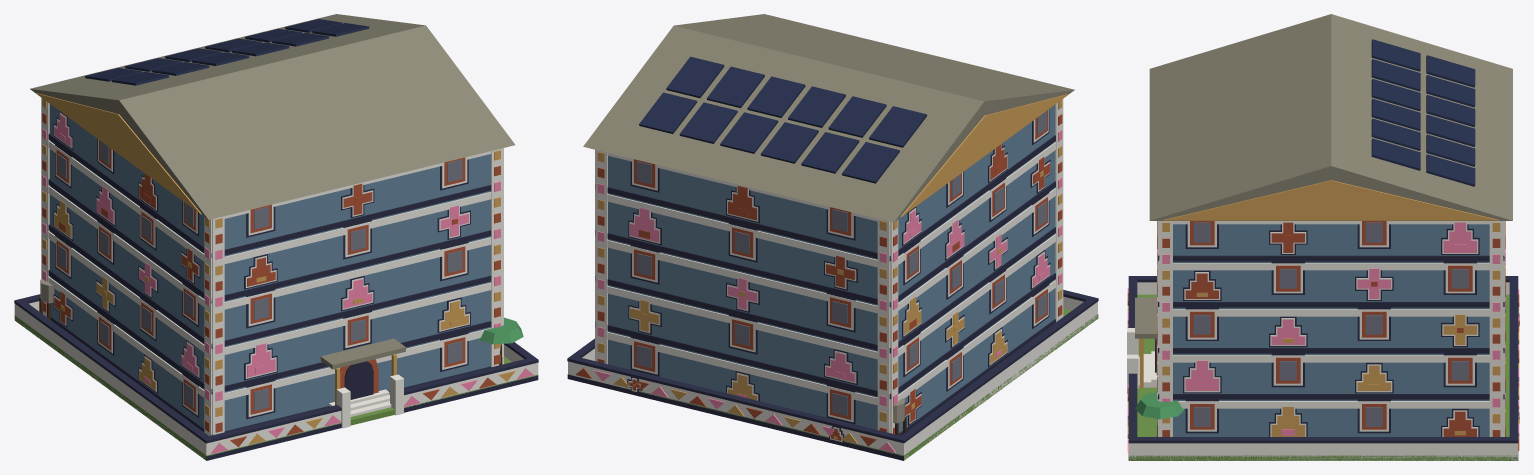
File: house-2x2-5f-ndebele-a-solar.glb
3 renders of one model, left to right at view 1: azimuth 30°, elevation 25°; view 2: azimuth 150°, elevation 25°; view 3: azimuth 270°, elevation 25°, orthographic.
Visible parts, largest first — view 1: house-2x2-5f-ndebele-a-solar; view 2: house-2x2-5f-ndebele-a-solar; view 3: house-2x2-5f-ndebele-a-solar.
Part boxes in pixels (<box>): house-2x2-5f-ndebele-a-solar: <box>14,14,538,460</box>; house-2x2-5f-ndebele-a-solar: <box>567,14,1098,460</box>; house-2x2-5f-ndebele-a-solar: <box>1127,14,1519,460</box>.
Bounding box in the file's own units: 1.99 × 1.63 × 2.01.
1 material, 1 textured.
